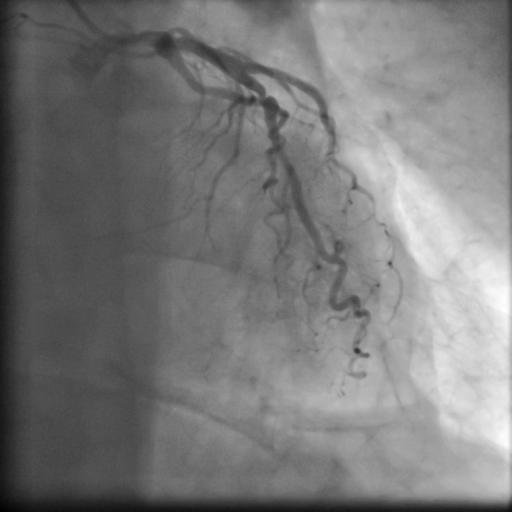Stenosis: (242, 89, 274, 112)
